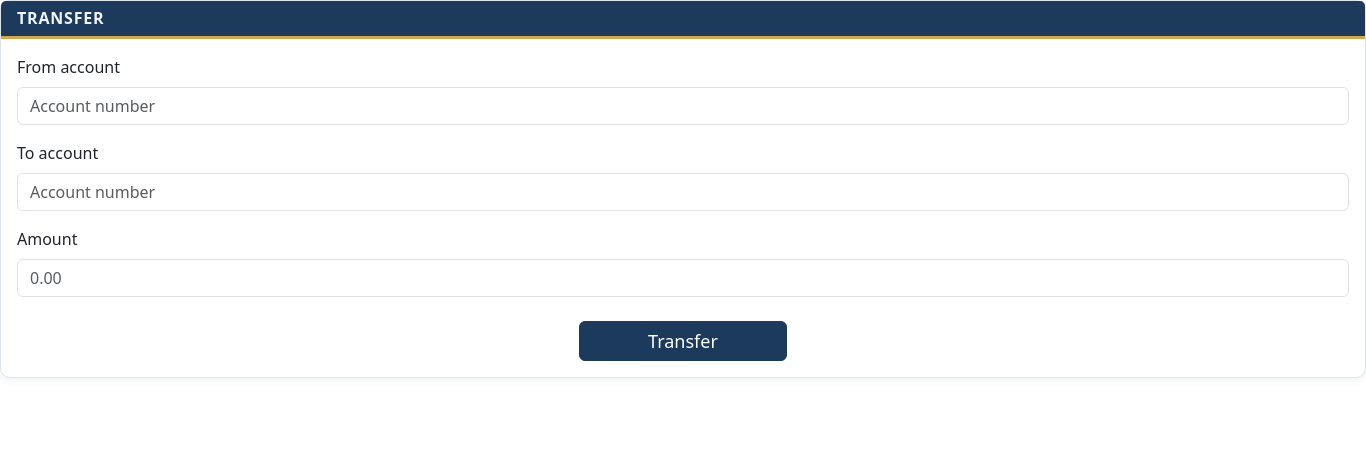
Transfer › Transfer errors › shows an error for invalid transfer amounts
Type "-100" into the number field labelled "Amount" at (683, 278), box [17,259,1349,297]
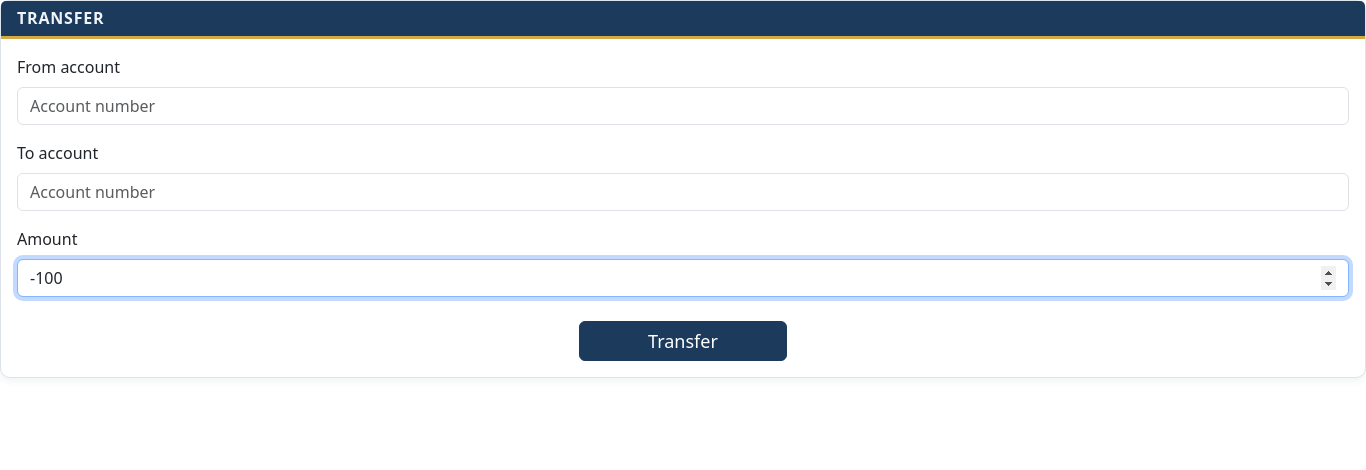
Click the button "Transfer" at (683, 341), box [579,321,787,361]
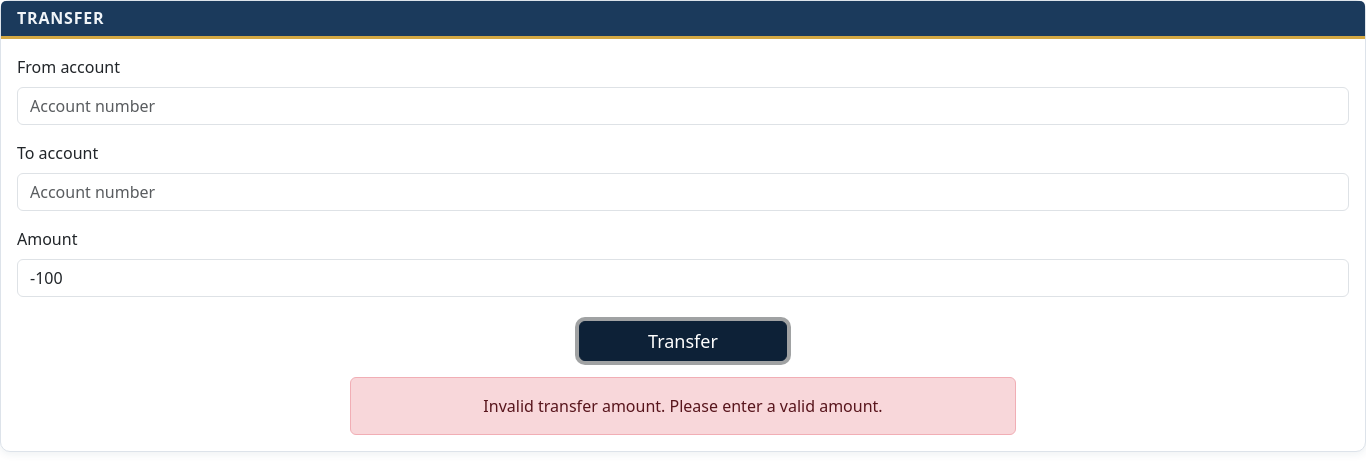
Result: the message reads "Invalid transfer amount. Please enter a valid amount." at [483,395,883,417]
